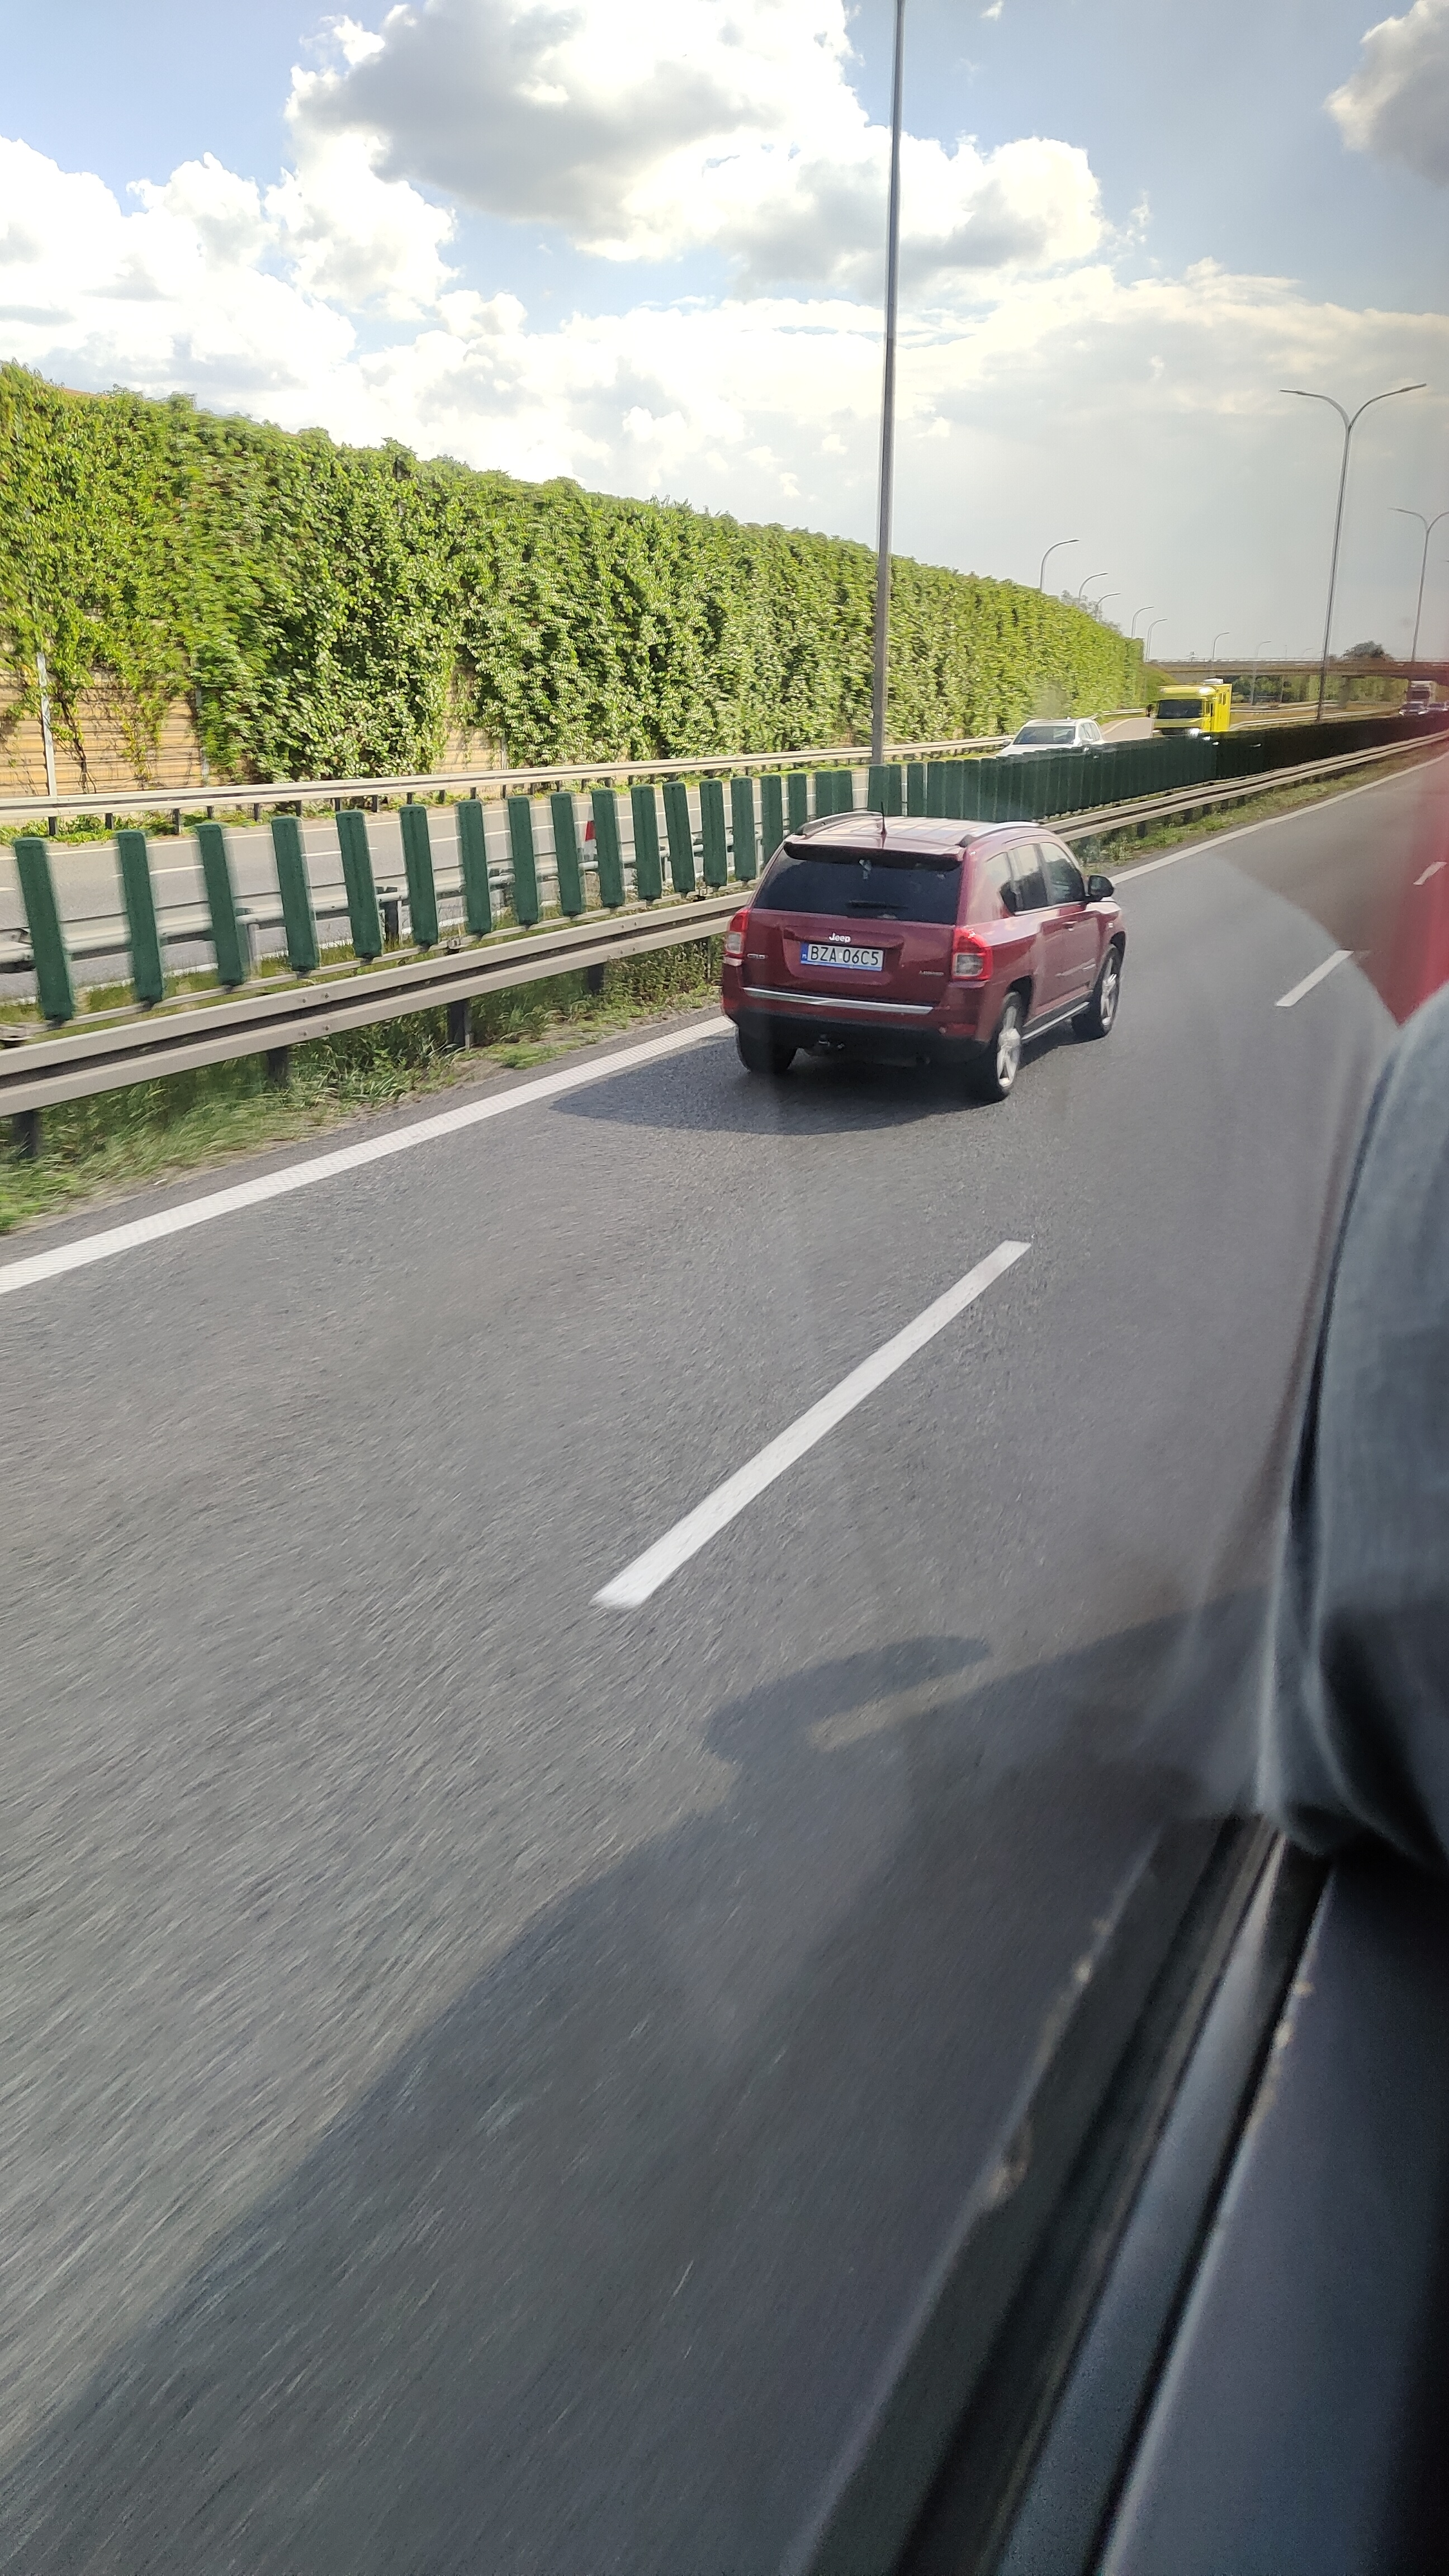number_plate: (799, 942, 885, 975)
